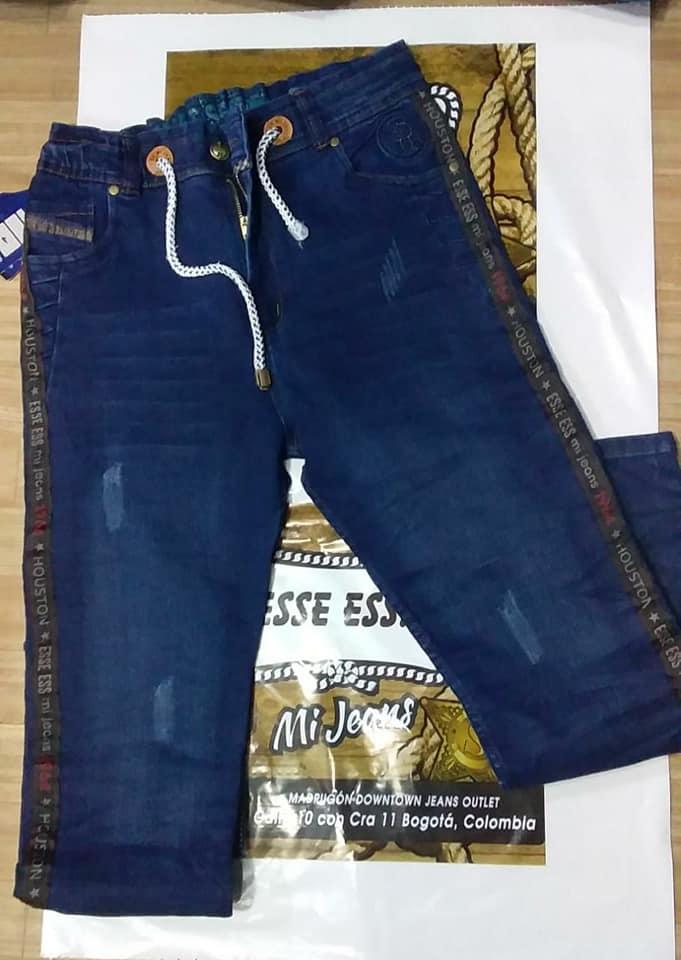Jeans: (0, 30, 681, 930)
